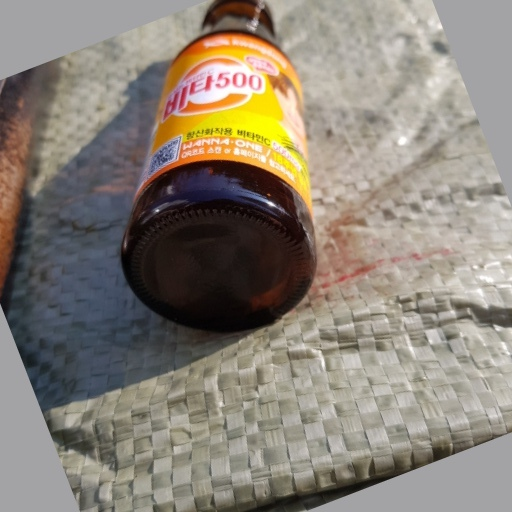Glass_3: (120, 2, 316, 335)
